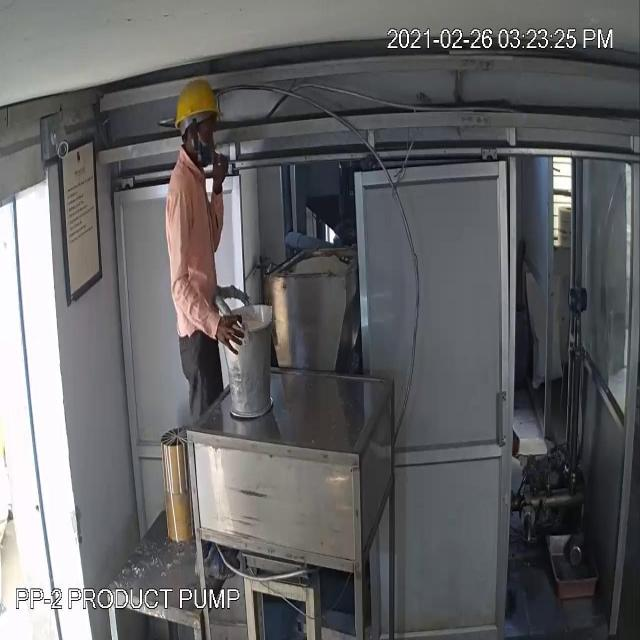helmet: (171, 78, 223, 132)
